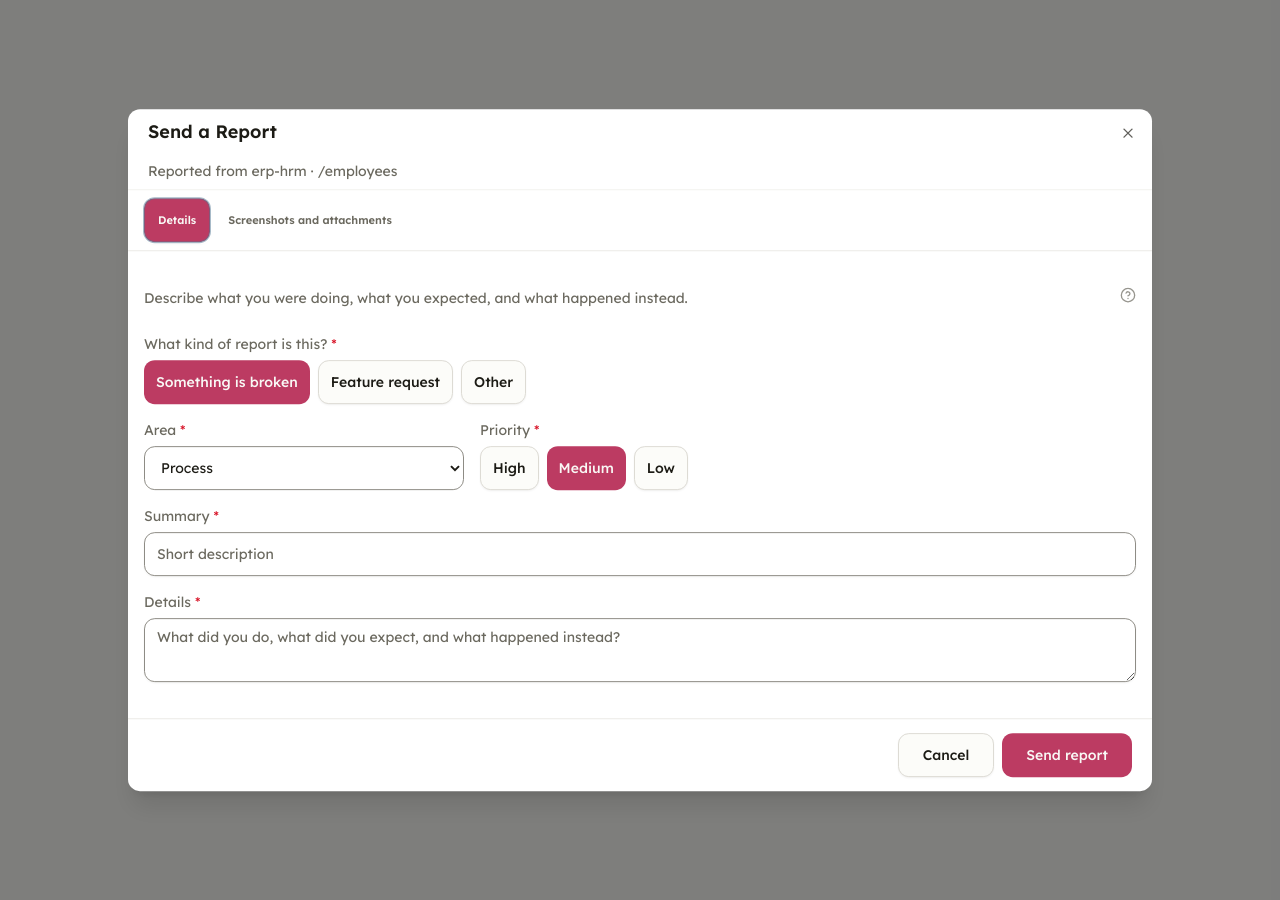
ReportDialog › reveals the help text and hides it on a second click
The width and height of the screenshot is (1280, 900).
Step 1. Click the button named "About this form" → [1128, 295], box [1120,287,1136,303]
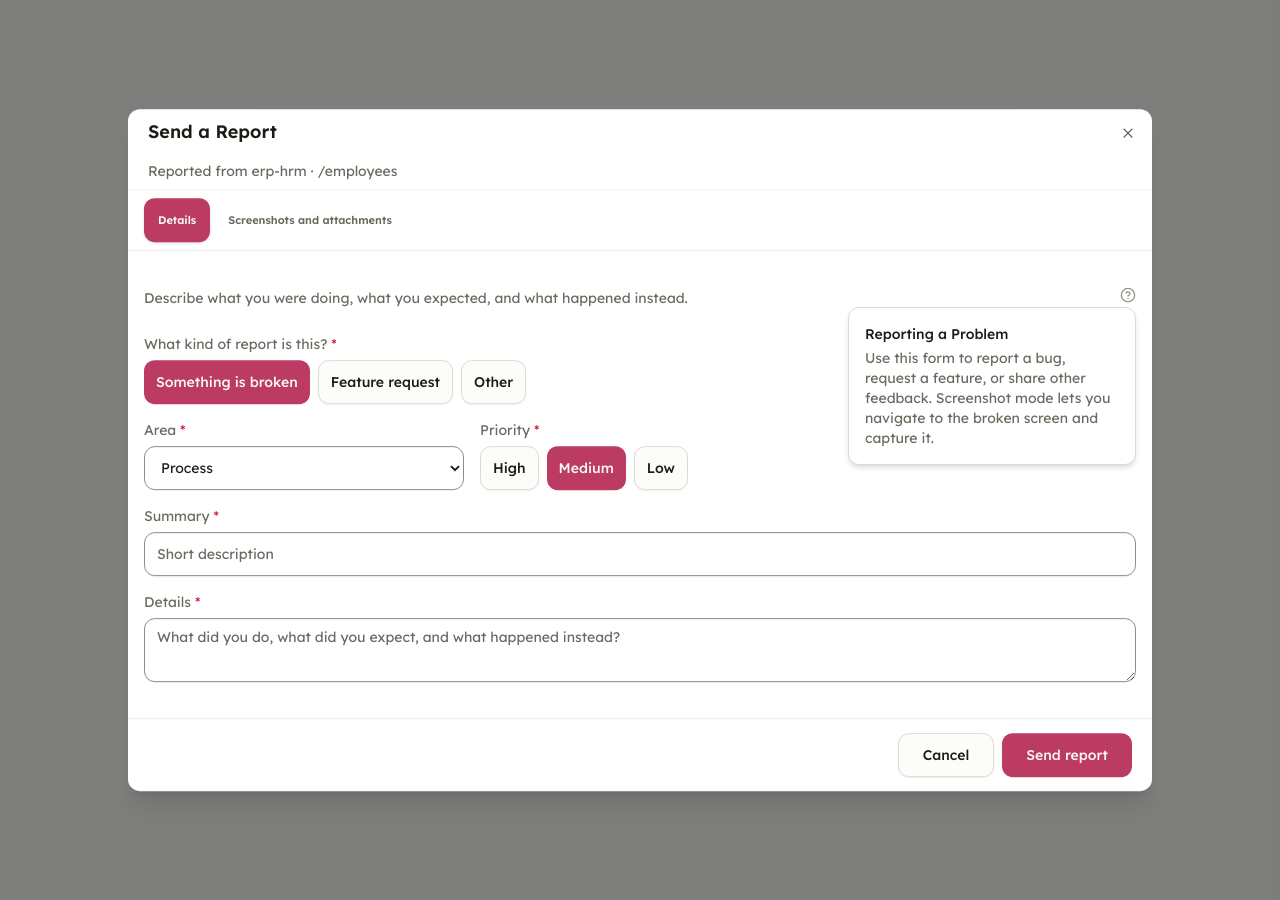
Now the text "Use this form to report a bug, request a feature, or share other feedback. Screenshot mode lets you navigate to the brok" is shown, box [865,349,1110,447]
Step 2. Click the button named "About this form" → [1128, 295], box [1120,287,1136,303]
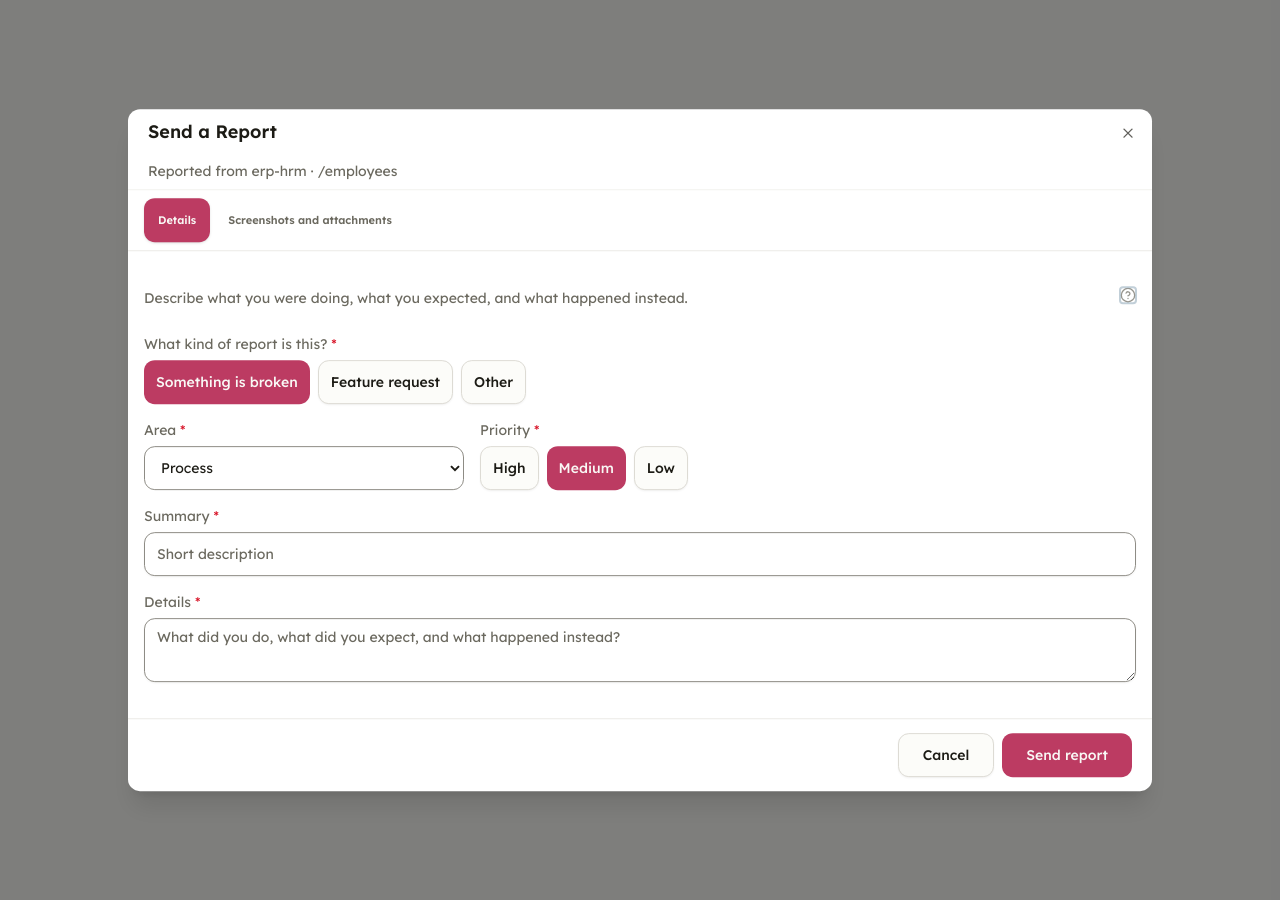
Now the text "Use this form to report a bug, request a feature, or share other feedback. Screenshot mode lets you navigate to the brok" is gone
